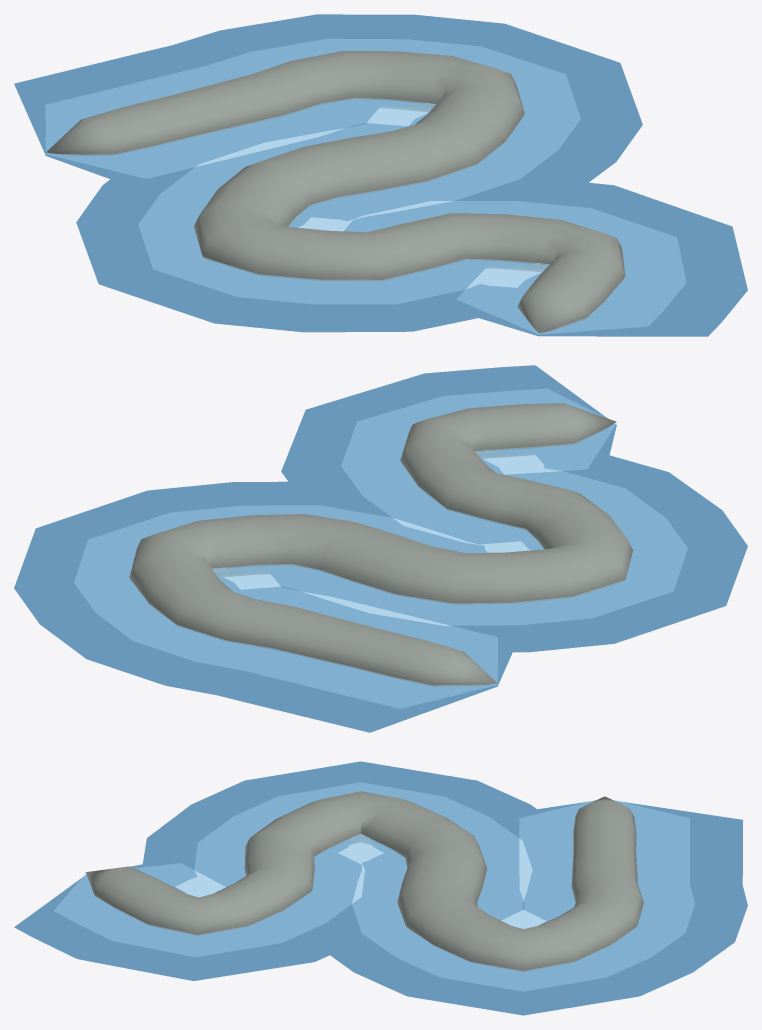
The model's file is fruit_glyph_swirl_245.glb.
3 views of the same model, one above another, from view 1: azimuth 30°, elevation 25°; view 2: azimuth 150°, elevation 25°; view 3: azimuth 270°, elevation 25° (orthographic). The views are drawn at different scales.
Visible parts, largest first — view 1: fruit_glyph_swirl_245; view 2: fruit_glyph_swirl_245; view 3: fruit_glyph_swirl_245.
Part boxes in pixels (<box>): fruit_glyph_swirl_245: <box>14,14,747,336</box>; fruit_glyph_swirl_245: <box>14,365,747,732</box>; fruit_glyph_swirl_245: <box>14,761,747,1015</box>.
Size of the model in its own units: 7.4 by 0.6 by 9.03.
